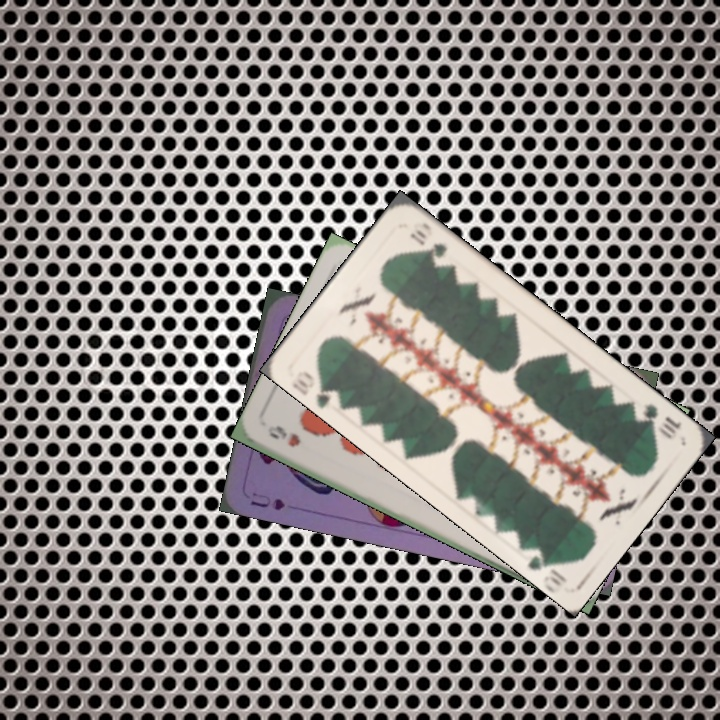G10: (629, 399, 684, 442), (292, 366, 343, 409)
H9: (263, 421, 304, 450)
SU: (246, 488, 288, 513)
